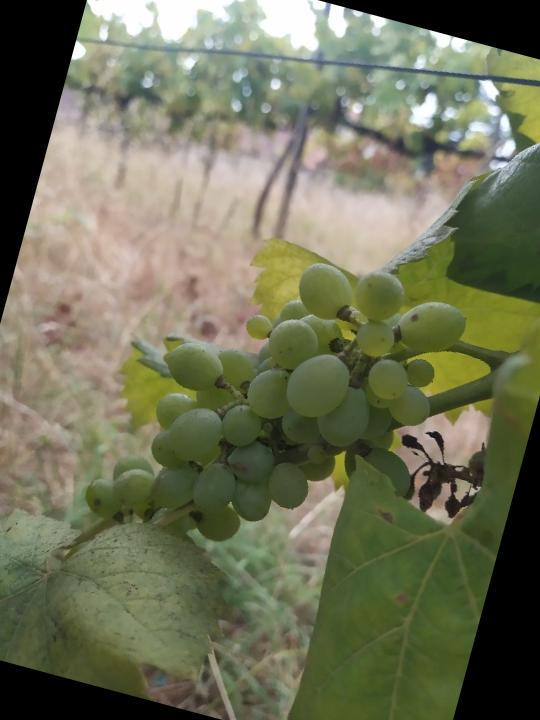grape: (77, 208, 479, 601)
